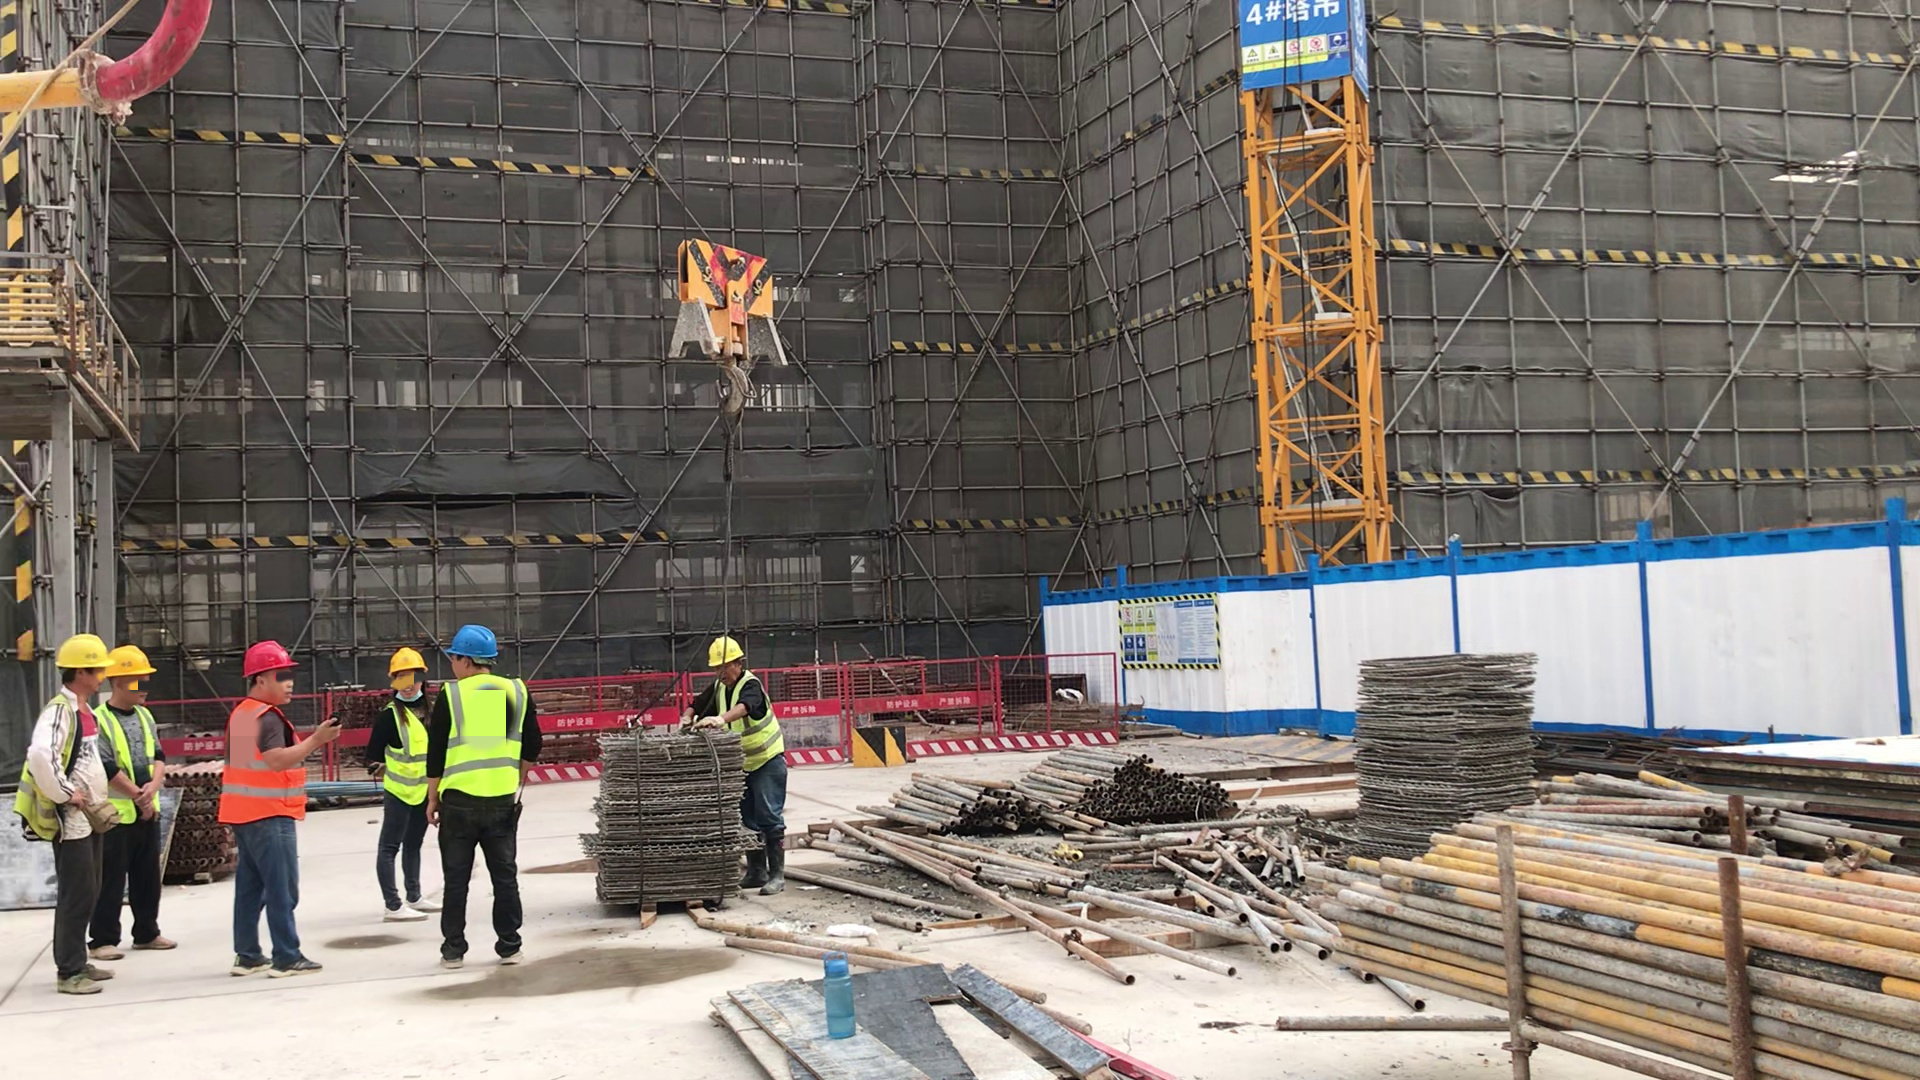fence: (897, 650, 1114, 752), (784, 657, 850, 768), (544, 676, 600, 787)
helmet: (57, 635, 116, 673), (449, 627, 501, 666), (236, 642, 297, 676), (112, 645, 157, 678), (388, 649, 426, 675), (707, 639, 744, 666)
hook: (667, 237, 789, 419)
person: (224, 635, 344, 977), (423, 624, 541, 970), (93, 643, 180, 961), (43, 635, 117, 987), (707, 636, 790, 898), (368, 646, 443, 929)
scaffold: (1297, 802, 1920, 1079), (1029, 743, 1238, 821), (857, 769, 1052, 835)
slogan: (1120, 604, 1224, 667), (1247, 32, 1350, 75), (1246, 2, 1342, 28)
vest: (449, 677, 532, 802), (226, 701, 307, 828), (96, 704, 167, 825), (41, 695, 80, 845), (383, 700, 431, 809), (737, 675, 785, 773)
